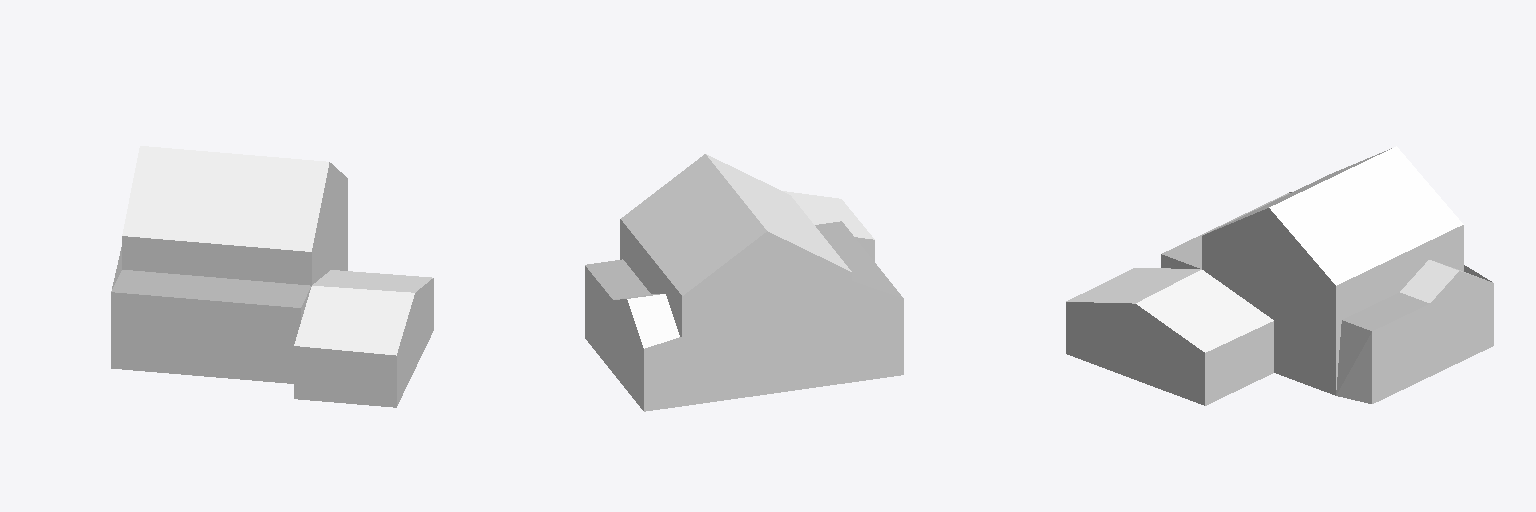
The model's file is house_Shape 327.obj.
3 views of the same model, side by side, from view 1: azimuth 30°, elevation 25°; view 2: azimuth 150°, elevation 25°; view 3: azimuth 270°, elevation 25° (orthographic).
Parts seen in each view (by area): view 1: CityEngineMaterial_131, CityEngineMaterial_12, CityEngineMaterial_218, CityEngineMaterial_132; view 2: CityEngineMaterial_219, CityEngineMaterial_12, CityEngineMaterial_132, CityEngineMaterial_131, CityEngineMaterial_218; view 3: CityEngineMaterial_131, CityEngineMaterial_12, CityEngineMaterial_132, CityEngineMaterial_218.
Part boxes in pixels (bbox=[...]): CityEngineMaterial_131: bbox=[111, 187, 433, 407]; CityEngineMaterial_12: bbox=[122, 146, 432, 355]; CityEngineMaterial_218: bbox=[111, 270, 310, 375]; CityEngineMaterial_132: bbox=[312, 162, 347, 258]; CityEngineMaterial_219: bbox=[644, 281, 903, 411]; CityEngineMaterial_12: bbox=[615, 154, 874, 348]; CityEngineMaterial_132: bbox=[620, 219, 851, 304]; CityEngineMaterial_131: bbox=[585, 228, 874, 410]; CityEngineMaterial_218: bbox=[585, 221, 902, 299]; CityEngineMaterial_131: bbox=[1066, 233, 1493, 405]; CityEngineMaterial_12: bbox=[1066, 146, 1484, 352]; CityEngineMaterial_132: bbox=[1202, 208, 1463, 293]; CityEngineMaterial_218: bbox=[1162, 193, 1429, 330].
Bounding box in the file's own units: 13.03 × 7.24 × 17.22.